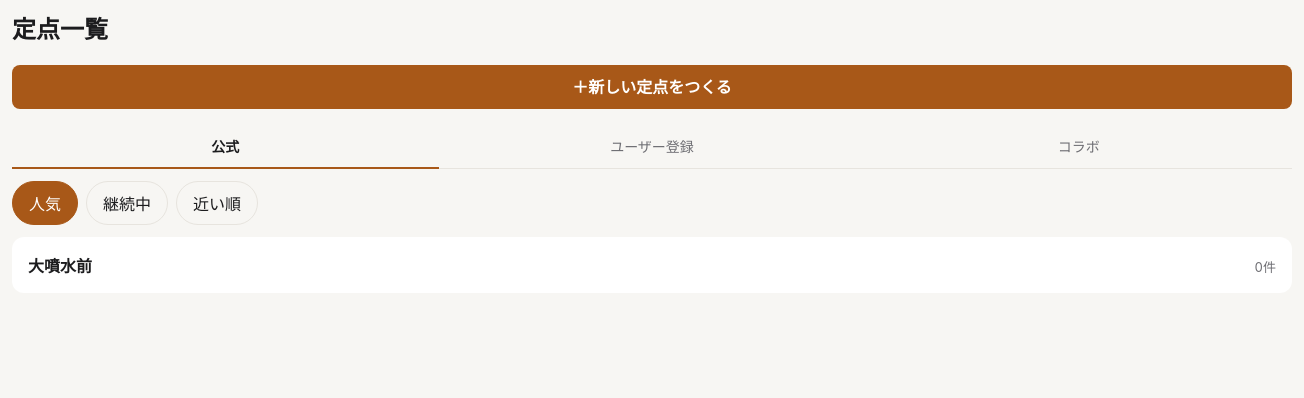
Test case: SpotsListPage tabs › shows the selected tab's spots when switching tabs while the distance sort is still locating
Click the button "近い順" at (217, 203), box [176,181,258,225]
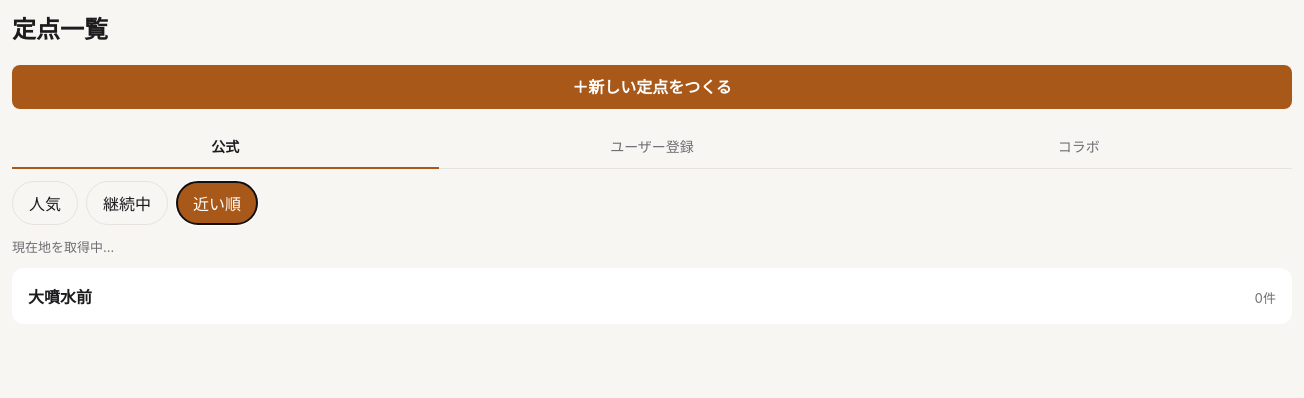
Result: the text "現在地を取得中…" is shown at [12,239,114,255]
Click the tab "ユーザー登録" at (652, 147), box [439,125,865,169]
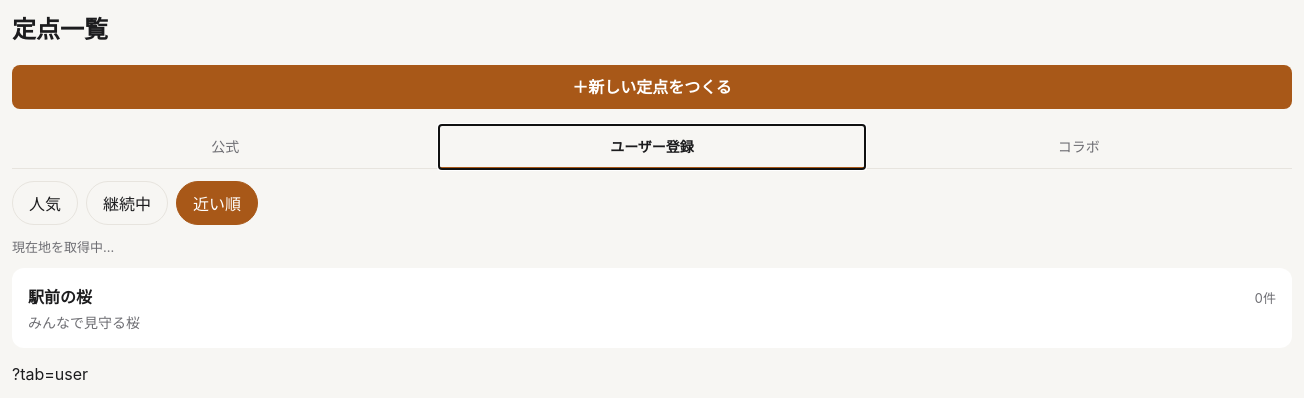
Result: the link "駅前の桜 0件 みんなで見守る桜" is shown at [12,268,1292,348]
Result: the link "大噴水前" is gone
